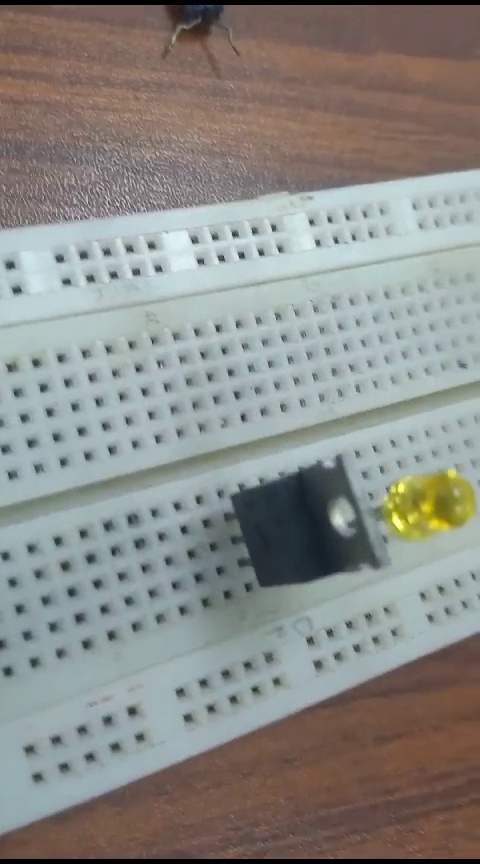LED: (394, 467, 480, 539)
voltage regulator: (230, 471, 380, 587)
